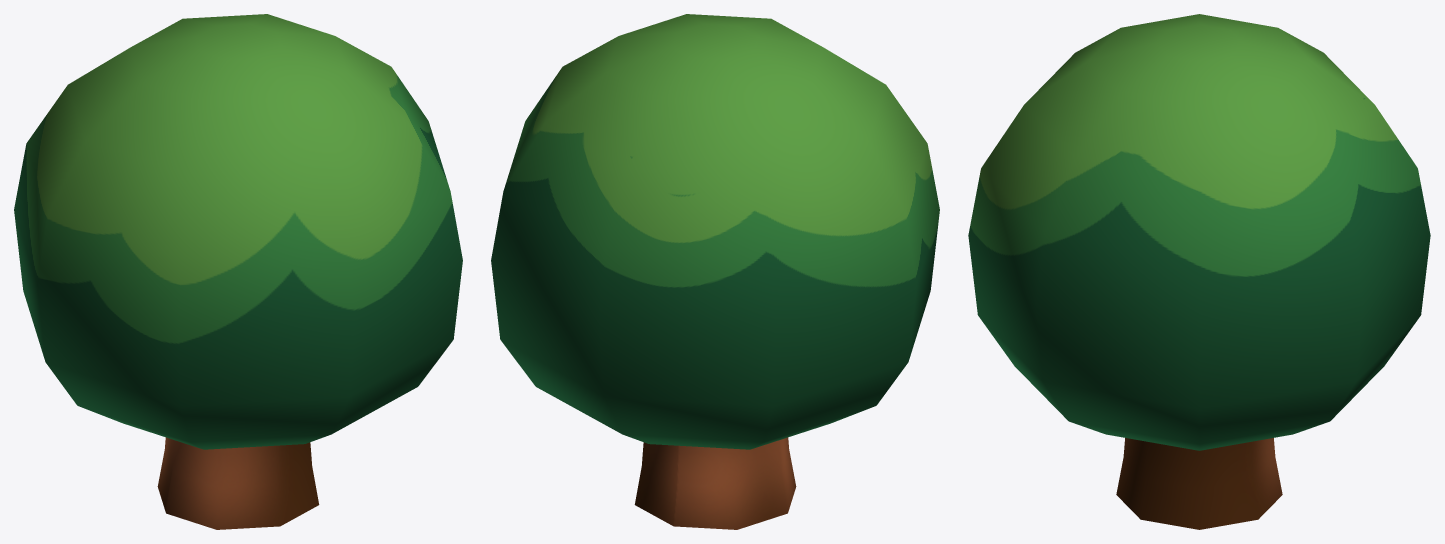
The model's file is M_ST_ENV_GreenTree_01.fbx.
3 renders of one model, left to right at view 1: azimuth 30°, elevation 25°; view 2: azimuth 150°, elevation 25°; view 3: azimuth 270°, elevation 25°, orthographic.
Parts seen in each view (by area): view 1: Round_Tree_01; view 2: Round_Tree_01; view 3: Round_Tree_01.
Boxes of the visible parts, left/top/right/bottom form: Round_Tree_01: left=14, top=14, right=462, bottom=529; Round_Tree_01: left=491, top=14, right=939, bottom=529; Round_Tree_01: left=968, top=14, right=1430, bottom=529.
Size of the model in its own units: 0.9435 by 1.02 by 0.9435.
Materials: 1 (1 with a texture image).
